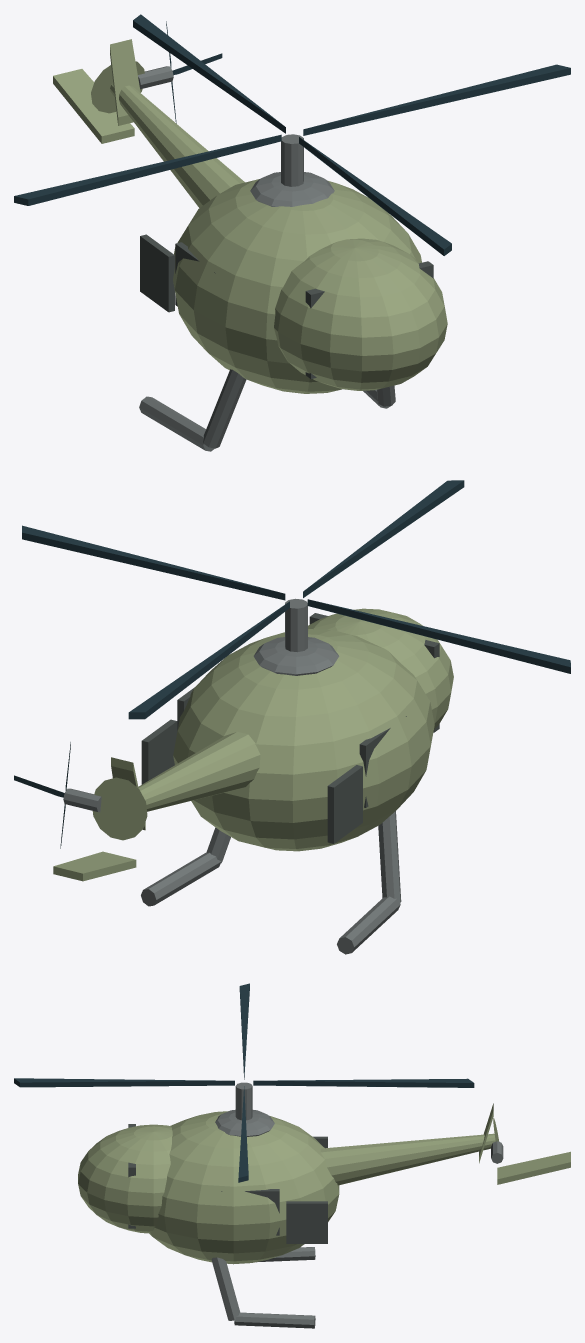
File: h225m-caracal.glb
3 renders of one model, top to bottom at view 1: azimuth 30°, elevation 25°; view 2: azimuth 150°, elevation 25°; view 3: azimuth 270°, elevation 25°, orthographic. The views are drawn at different scales.
Visible parts, largest first — view 1: h225m-caracal; view 2: h225m-caracal; view 3: h225m-caracal.
Part boxes in pixels (x1=…): h225m-caracal: x1=14, y1=14, x2=570, y2=451; h225m-caracal: x1=14, y1=480, x2=570, y2=954; h225m-caracal: x1=14, y1=983, x2=570, y2=1328.
Size of the model in its own units: 3 by 1.53 by 3.63.
